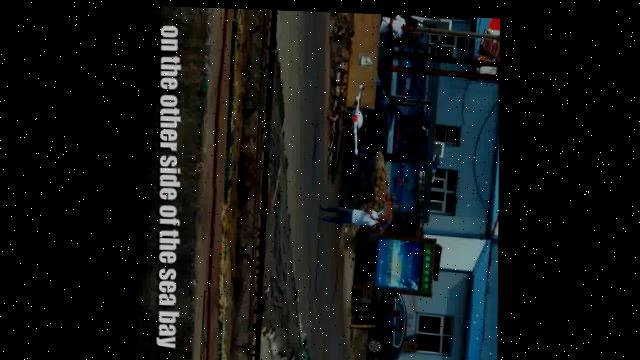drone: (340, 79, 369, 153)
